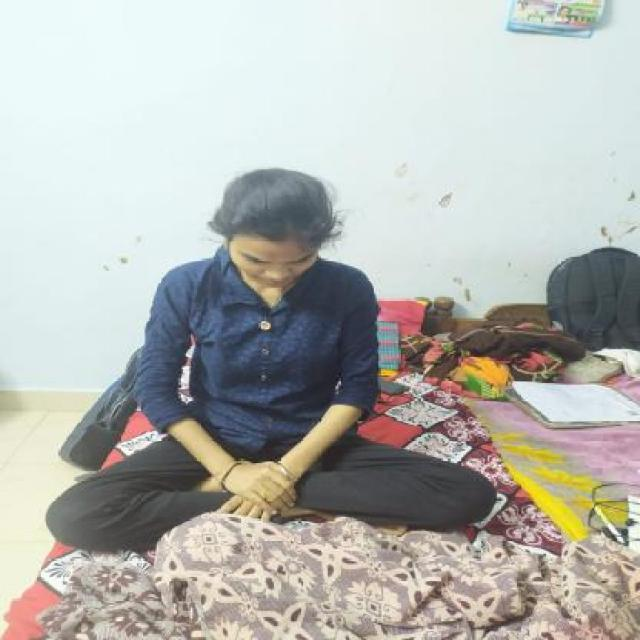good: (120, 156, 402, 473)
